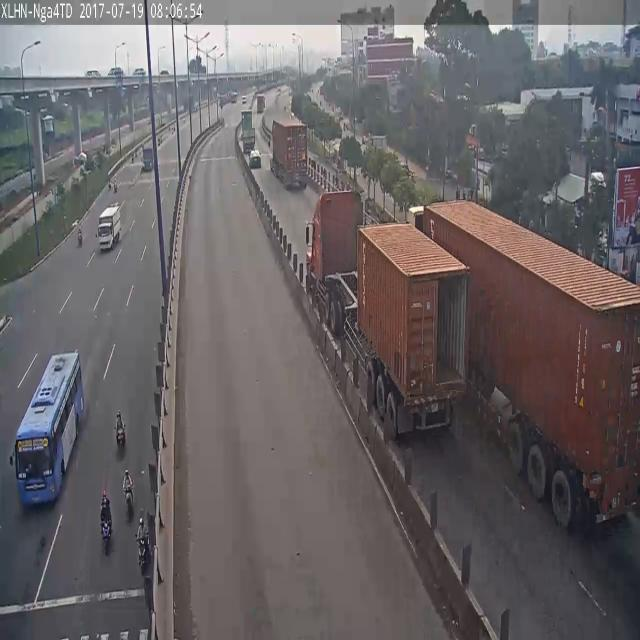car: (100, 491, 112, 554), (136, 518, 148, 566), (124, 470, 134, 508), (116, 411, 126, 447), (108, 179, 118, 193), (78, 222, 82, 247), (114, 180, 118, 193)
person: (14, 350, 84, 505)
traffic-light: (248, 149, 261, 168)
truck: (403, 197, 640, 538), (306, 192, 468, 439), (270, 121, 308, 188), (98, 203, 121, 249), (143, 145, 152, 171)
